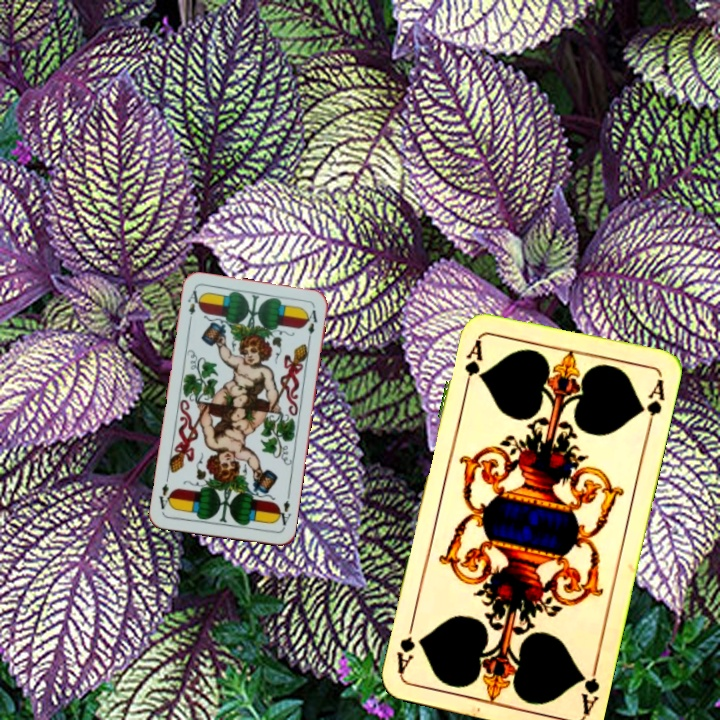EA: (183, 286, 203, 326), (273, 496, 294, 530)
GA: (576, 657, 602, 716), (460, 333, 485, 391)
